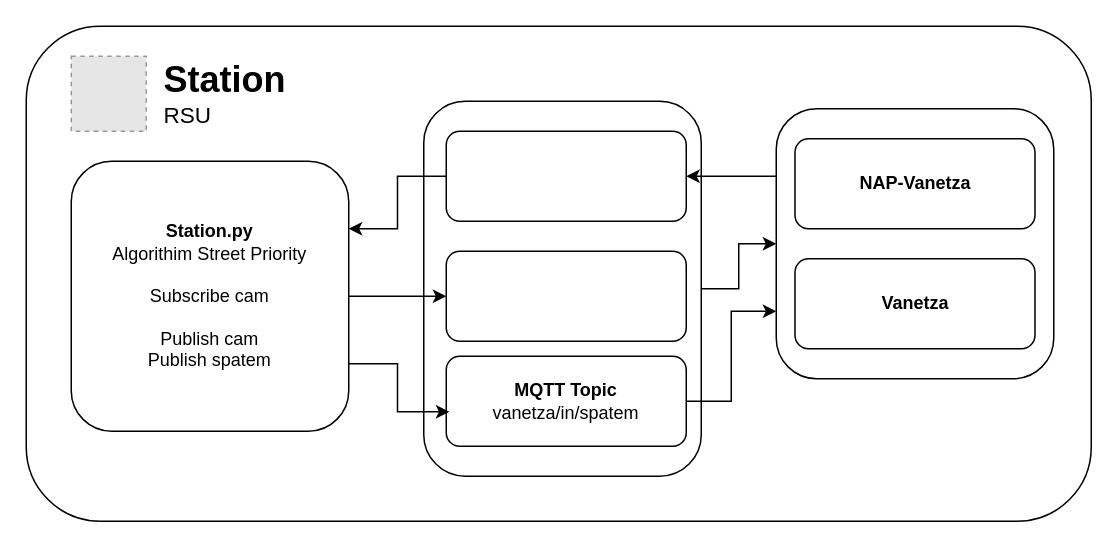
Image size: 1118x548. Some labels were removed from this diagram. Grey dashed boxes stand in for pictures. The box of each missing label's shape, as (x1, y1, x2, y2) in pixels:
MQTT Topic vanetza/in/cam: (445, 250, 686, 341)
MQTT Topic vanetza/out/cam: (445, 130, 686, 221)
